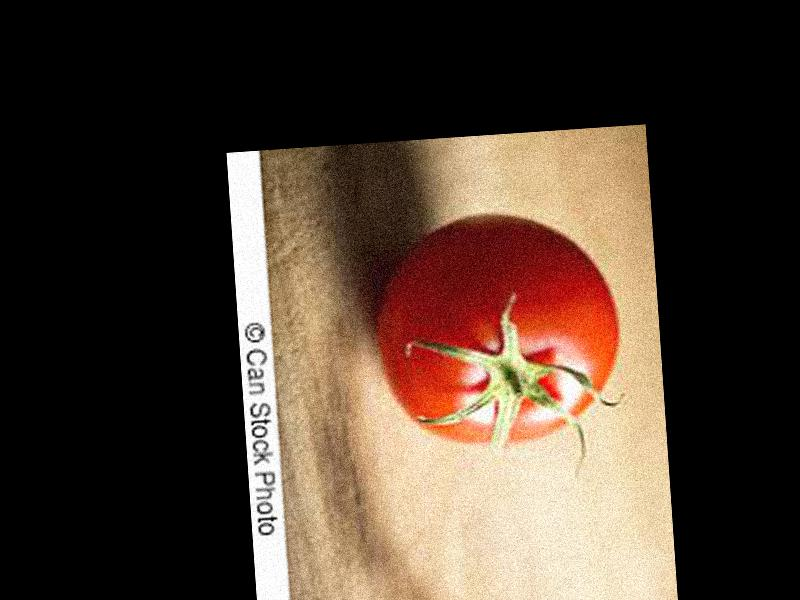Tomato: (372, 208, 622, 454)
